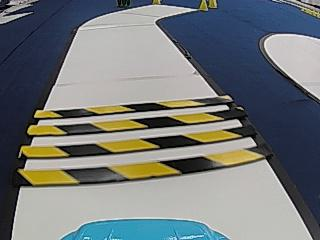bump: (18, 89, 268, 192)
